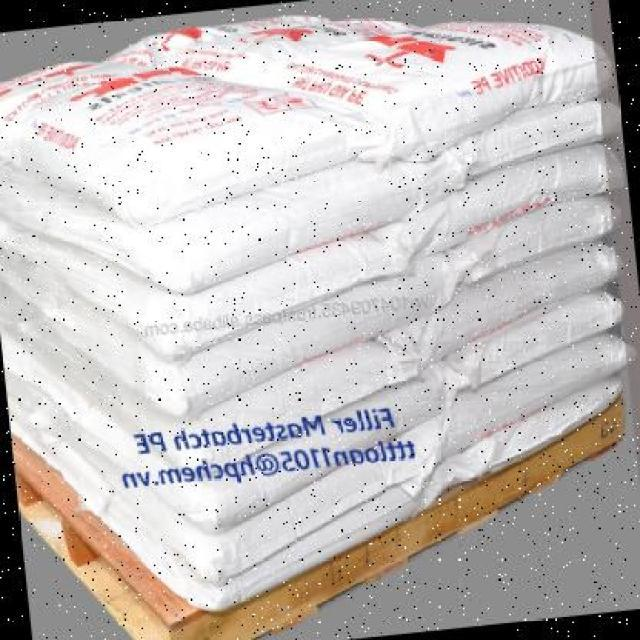gunny_bag: (35, 247, 457, 415), (0, 66, 393, 225), (78, 419, 444, 587), (76, 369, 451, 529), (0, 148, 419, 289), (10, 217, 408, 355), (31, 330, 422, 468), (95, 472, 448, 618), (262, 12, 614, 153), (392, 239, 622, 367), (396, 140, 621, 257), (410, 96, 622, 219), (441, 335, 639, 455), (437, 375, 627, 485), (439, 288, 628, 395), (166, 12, 422, 84), (448, 197, 622, 286), (0, 58, 165, 133), (9, 398, 96, 511), (114, 15, 281, 59), (2, 359, 66, 431), (0, 257, 51, 314), (0, 289, 33, 345), (0, 320, 30, 371), (0, 220, 4, 247)
